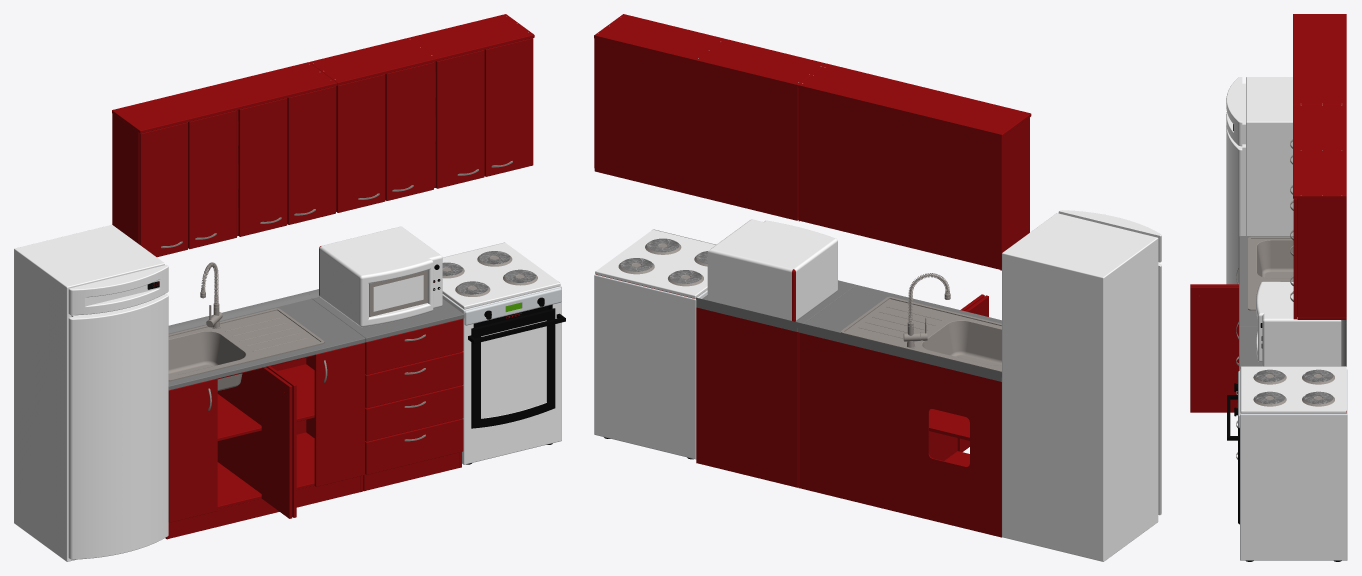
File: kitchen small.fbx
3 renders of one model, left to right at view 1: azimuth 30°, elevation 25°; view 2: azimuth 150°, elevation 25°; view 3: azimuth 270°, elevation 25°, orthographic. The views are drawn at different scales.
Visible parts, largest first — view 1: POS 2.5 vrata (×8), Frizider COOL HEAD 400 LT LOT2, elektricni sporet LOT2 (×7), POS 2.3 vrata (×4), POS 2.4 fioka prednja maska (×4), microwave (×3), Lava-loicas IKEA Boholmen 201.157.26, POS 2.5 viseci kuhinjski element gornja plova-1, POS 2.5 viseci kuhinjski element gornja plova-2, POS 2.3 kuhinja radna ploca, POS 2.3 srednja ploca, POS 2.5 kuhinja bocna stranica (+6 smaller); view 2: POS 2.5 lesonit (×2), Frizider COOL HEAD 400 LT LOT2, POS 2.3 lesonit, elektricni sporet LOT2 (×3), POS 2.4 lesonit, microwave, Lava-loicas IKEA Boholmen 201.157.26, POS 2.5 viseci kuhinjski element gornja plova-1, POS 2.5 viseci kuhinjski element gornja plova-2, POS 2.3 kuhinja radna ploca, POS 2.5 kuhinja bocna stranica, POS 2.3 diht lajsna (+3 smaller); view 3: elektricni sporet LOT2 (×9), Frizider COOL HEAD 400 LT LOT2, POS 2.3 vrata, MirrorPOS 2.5 kuhinja bocna stranica-3, microwave, POS 2.5 viseci kuhinjski element gornja plova-2, POS 2.5 viseci kuhinjski element gornja plova-1, Lava-loicas IKEA Boholmen 201.157.26, POS 2.3 kuhinja radna ploca, POS 2.4 kuhinjski element gornja ploca, POS 2.5 vrata, POS 2.4 diht lajsna.
Boxes of the visible parts, x1=… form: POS 2.5 vrata (×8): x1=139, y1=38, x2=533, y2=257; Frizider COOL HEAD 400 LT LOT2: x1=14, y1=225, x2=168, y2=561; elektricni sporet LOT2 (×7): x1=442, y1=242, x2=561, y2=464; POS 2.3 vrata (×4): x1=168, y1=343, x2=364, y2=522; POS 2.4 fioka prednja maska (×4): x1=365, y1=319, x2=463, y2=474; microwave (×3): x1=319, y1=226, x2=442, y2=327; Lava-loicas IKEA Boholmen 201.157.26: x1=168, y1=308, x2=324, y2=390; POS 2.5 viseci kuhinjski element gornja plova-1: x1=112, y1=62, x2=337, y2=133; POS 2.5 viseci kuhinjski element gornja plova-2: x1=309, y1=14, x2=534, y2=85; POS 2.3 kuhinja radna ploca: x1=168, y1=299, x2=365, y2=390; POS 2.3 srednja ploca: x1=217, y1=368, x2=261, y2=493; POS 2.5 kuhinja bocna stranica: x1=112, y1=113, x2=139, y2=243; POS 2.5 lesonit (×2): x1=595, y1=37, x2=1000, y2=268; Frizider COOL HEAD 400 LT LOT2: x1=1002, y1=210, x2=1161, y2=561; POS 2.3 lesonit: x1=800, y1=333, x2=1000, y2=536; elektricni sporet LOT2 (×3): x1=594, y1=229, x2=715, y2=459; POS 2.4 lesonit: x1=697, y1=308, x2=796, y2=487; microwave: x1=707, y1=219, x2=837, y2=321; Lava-loicas IKEA Boholmen 201.157.26: x1=841, y1=296, x2=1001, y2=371; POS 2.5 viseci kuhinjski element gornja plova-1: x1=798, y1=63, x2=1031, y2=137; POS 2.5 viseci kuhinjski element gornja plova-2: x1=594, y1=14, x2=826, y2=87; POS 2.3 kuhinja radna ploca: x1=798, y1=285, x2=1002, y2=381; POS 2.5 kuhinja bocna stranica: x1=1000, y1=118, x2=1028, y2=267; POS 2.3 diht lajsna: x1=798, y1=322, x2=1002, y2=377; elektricni sporet LOT2 (×9): x1=1227, y1=366, x2=1347, y2=560; Frizider COOL HEAD 400 LT LOT2: x1=1226, y1=77, x2=1293, y2=284; POS 2.3 vrata: x1=1190, y1=286, x2=1238, y2=412; MirrorPOS 2.5 kuhinja bocna stranica-3: x1=1297, y1=198, x2=1346, y2=317; microwave: x1=1256, y1=281, x2=1341, y2=366; POS 2.5 viseci kuhinjski element gornja plova-2: x1=1293, y1=105, x2=1346, y2=198; POS 2.5 viseci kuhinjski element gornja plova-1: x1=1293, y1=14, x2=1346, y2=104; Lava-loicas IKEA Boholmen 201.157.26: x1=1248, y1=236, x2=1293, y2=310; POS 2.3 kuhinja radna ploca: x1=1239, y1=236, x2=1293, y2=326; POS 2.4 kuhinjski element gornja ploca: x1=1239, y1=327, x2=1262, y2=370; POS 2.5 vrata: x1=1293, y1=198, x2=1296, y2=319; POS 2.4 diht lajsna: x1=1341, y1=323, x2=1346, y2=366.
Bounding box in the file's own units: 2997 × 2264 × 876.
37 materials, 4 textured.
